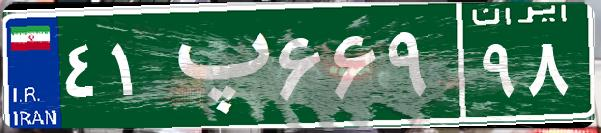1: (110, 28, 158, 105)
4: (57, 26, 110, 107)
6: (273, 28, 330, 110), (330, 28, 385, 110)
8: (525, 38, 570, 115)
9: (385, 28, 445, 110), (475, 38, 525, 113)
پ: (158, 15, 273, 115)
